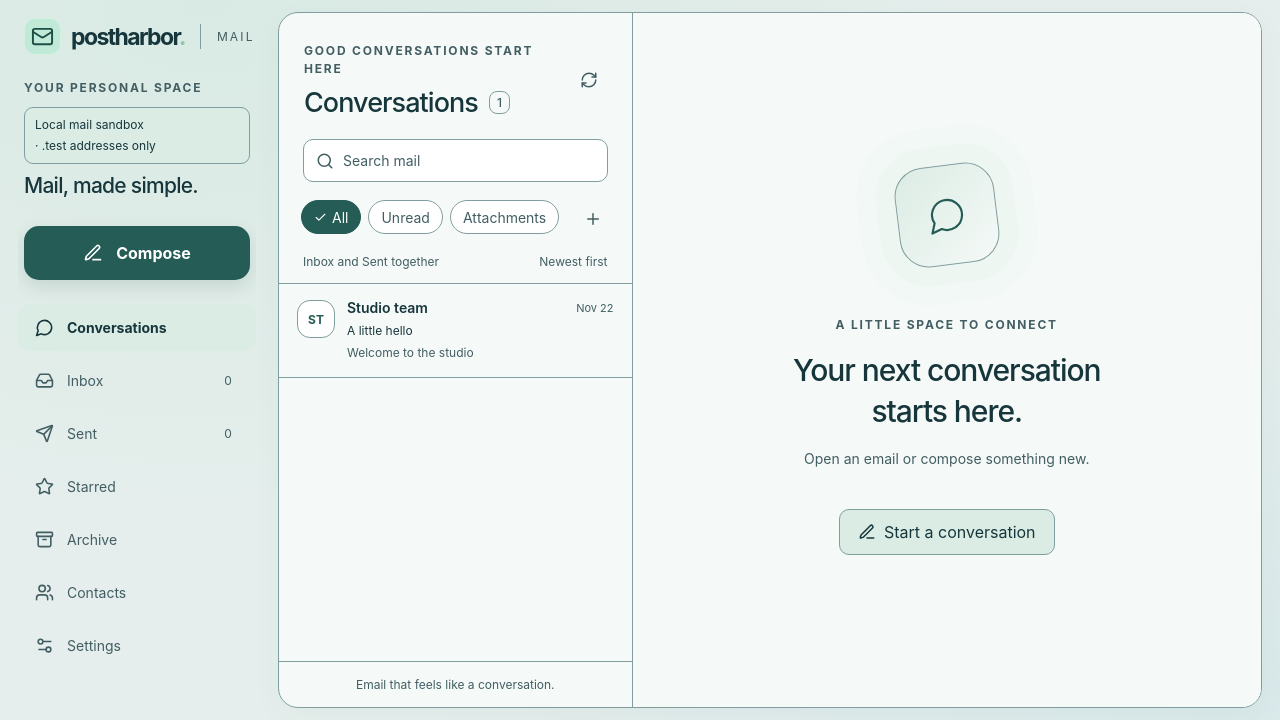
mailbox experience › preserves a failed reply, confirms draft dismissal, and sends the original reply reference
Click the button "ST Studio team Nov 22 A little hello Welcome to the studio" at (316, 319), box [279,284,632,378]
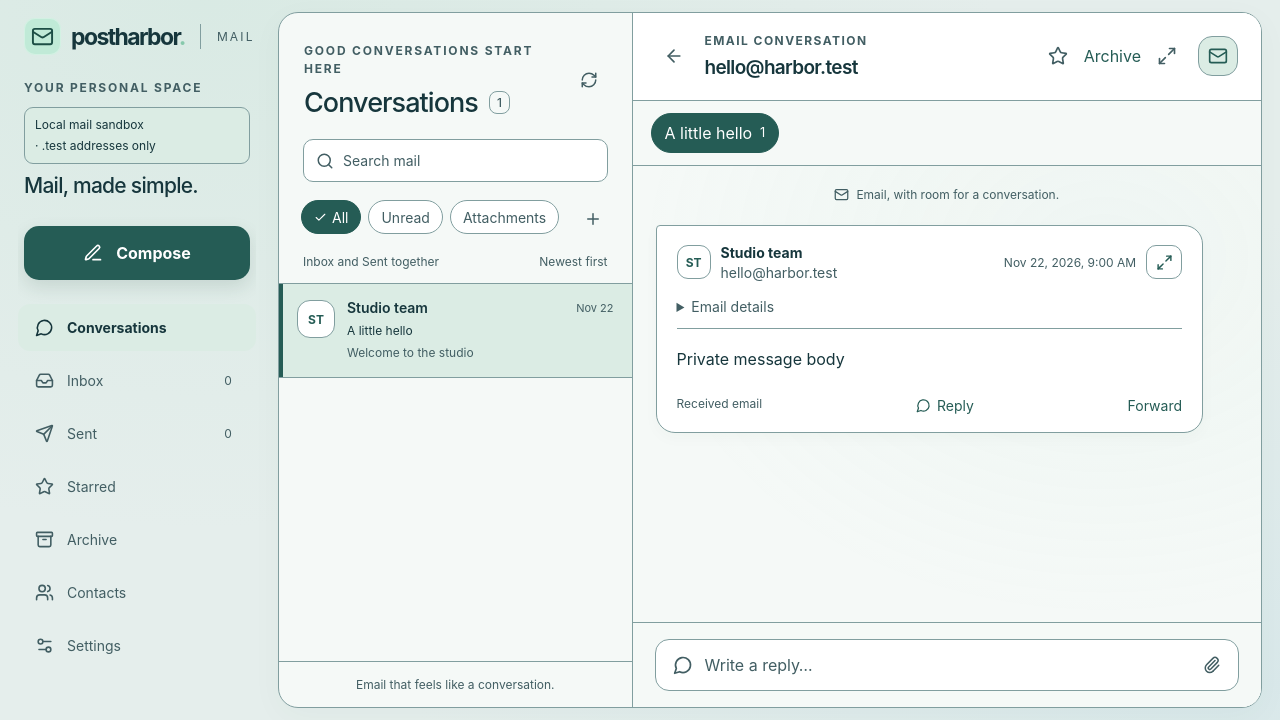
Click the button "Reply" at (941, 404), box [908,389,974,419]
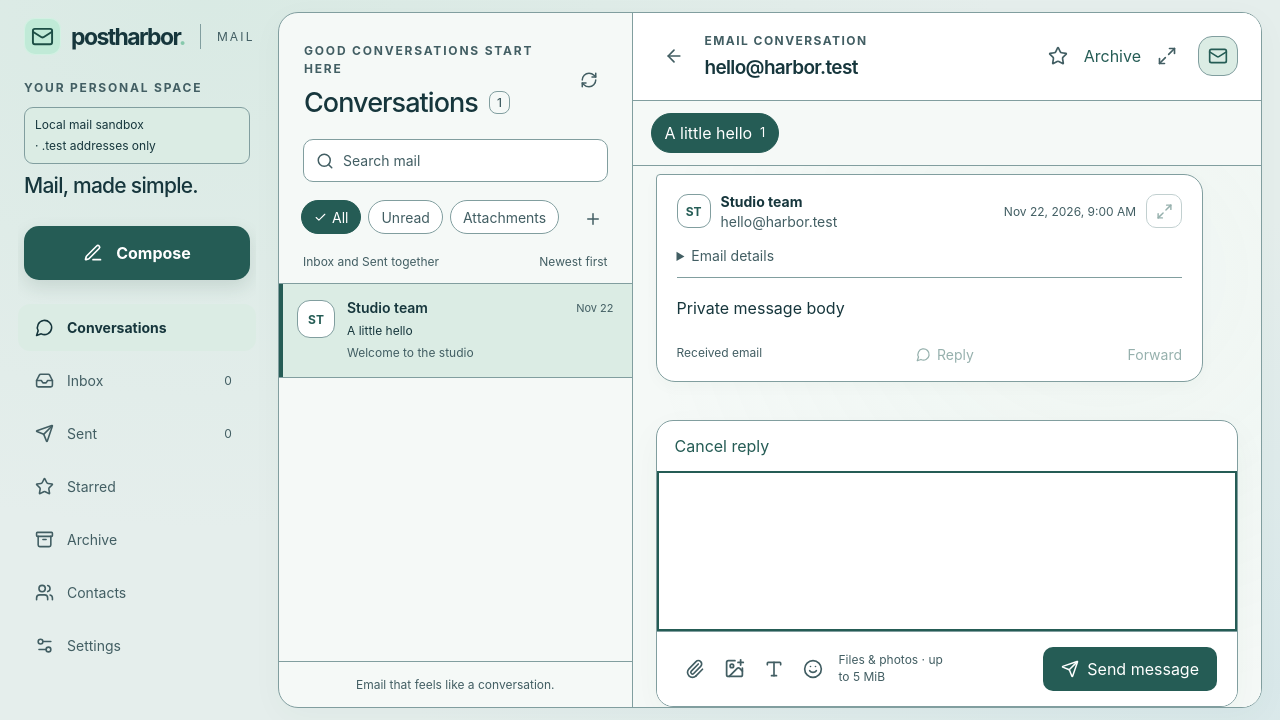
Clear the field named "Message" at (947, 551), box [656,471,1237,631]
Click the button "Cancel reply" at (722, 446), box [674,429,769,463]
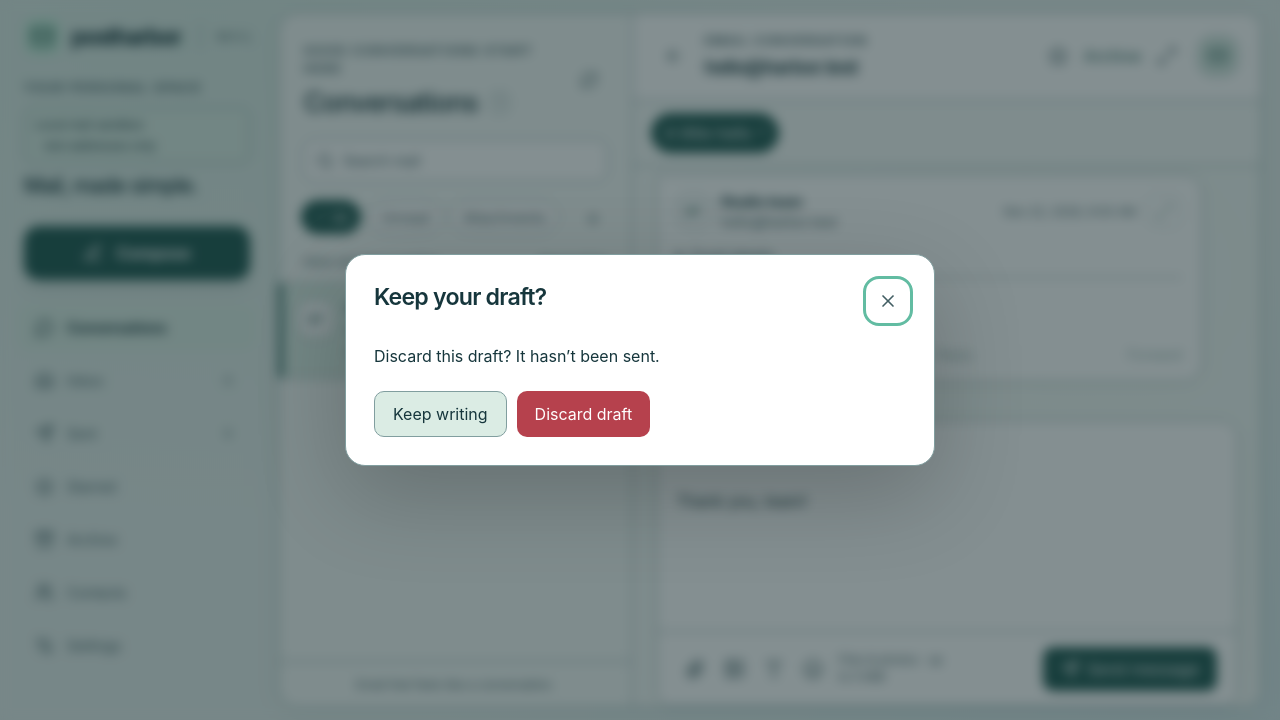
Result: the text "Discard this draft? It hasn’t been sent." is shown at [374,346,660,366]
Click the button "Keep writing" at (440, 414), box [374,391,507,437]
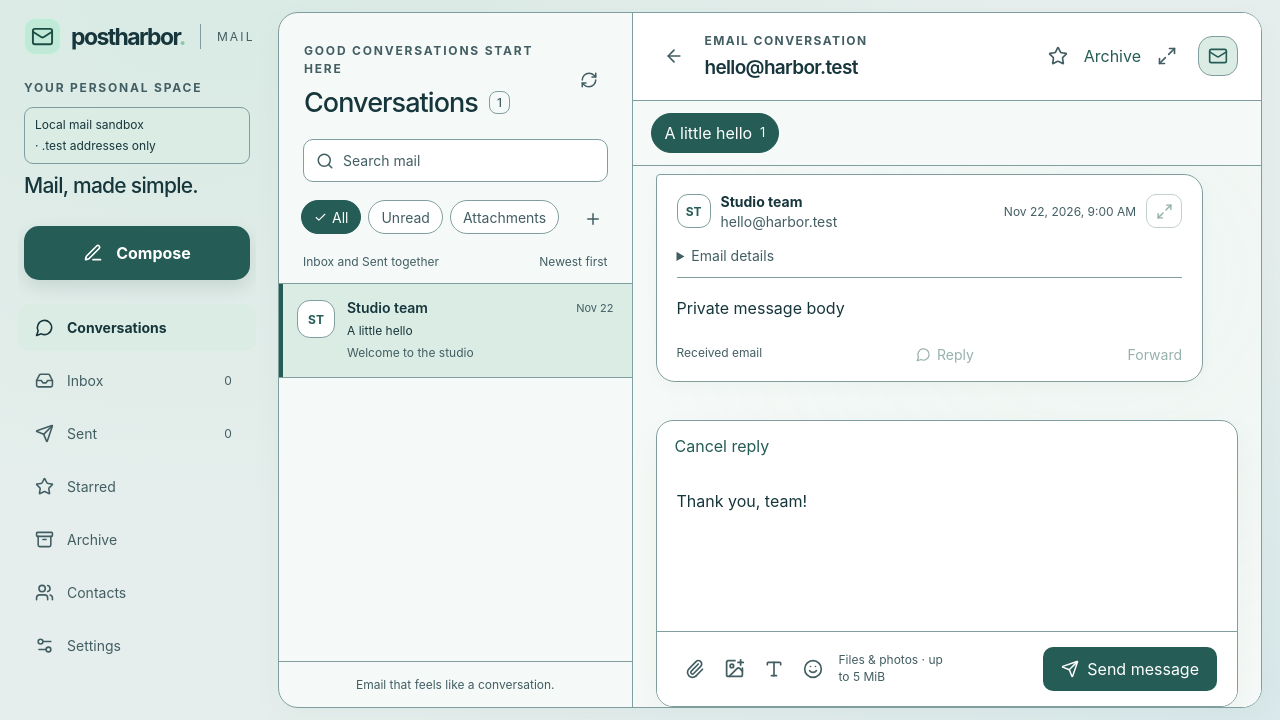
Click the button "Send message" at (1130, 669), box [1043,647,1217,691]
(page scrolled)
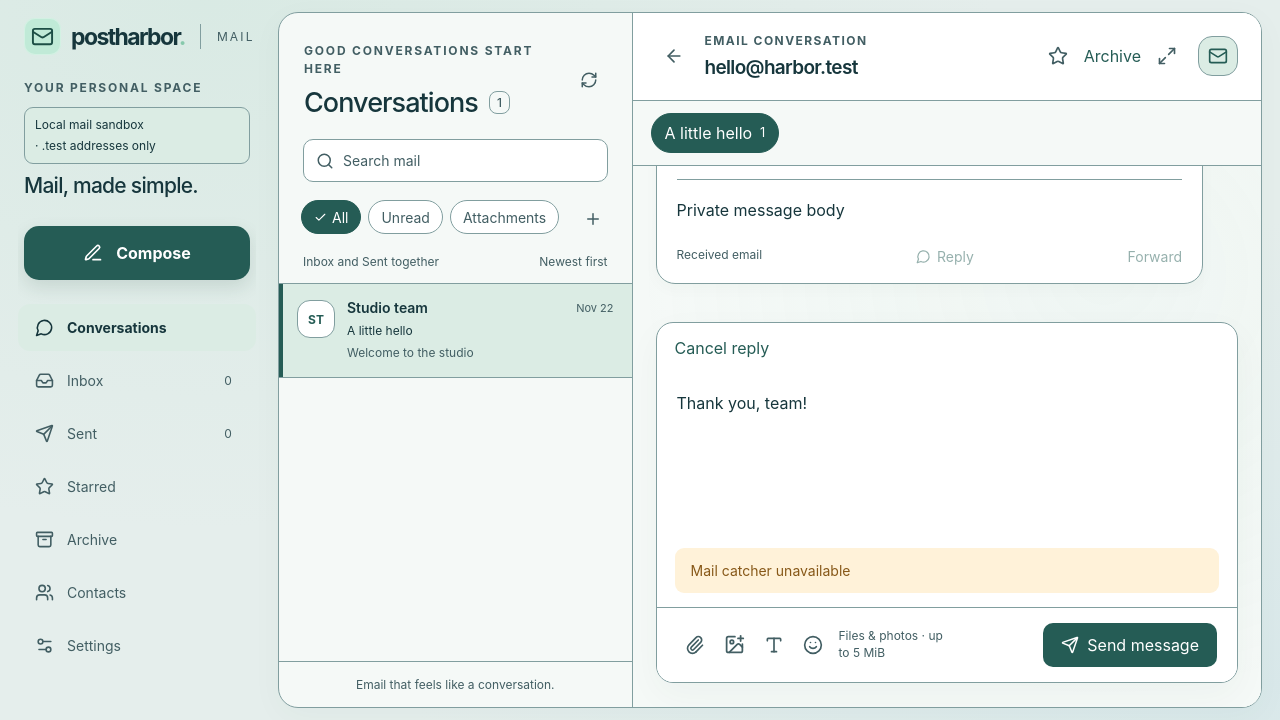
Result: the text "Mail catcher unavailable" is shown at [674,548,1219,593]
Click the button "Send message" at (1130, 645), box [1043,623,1217,667]
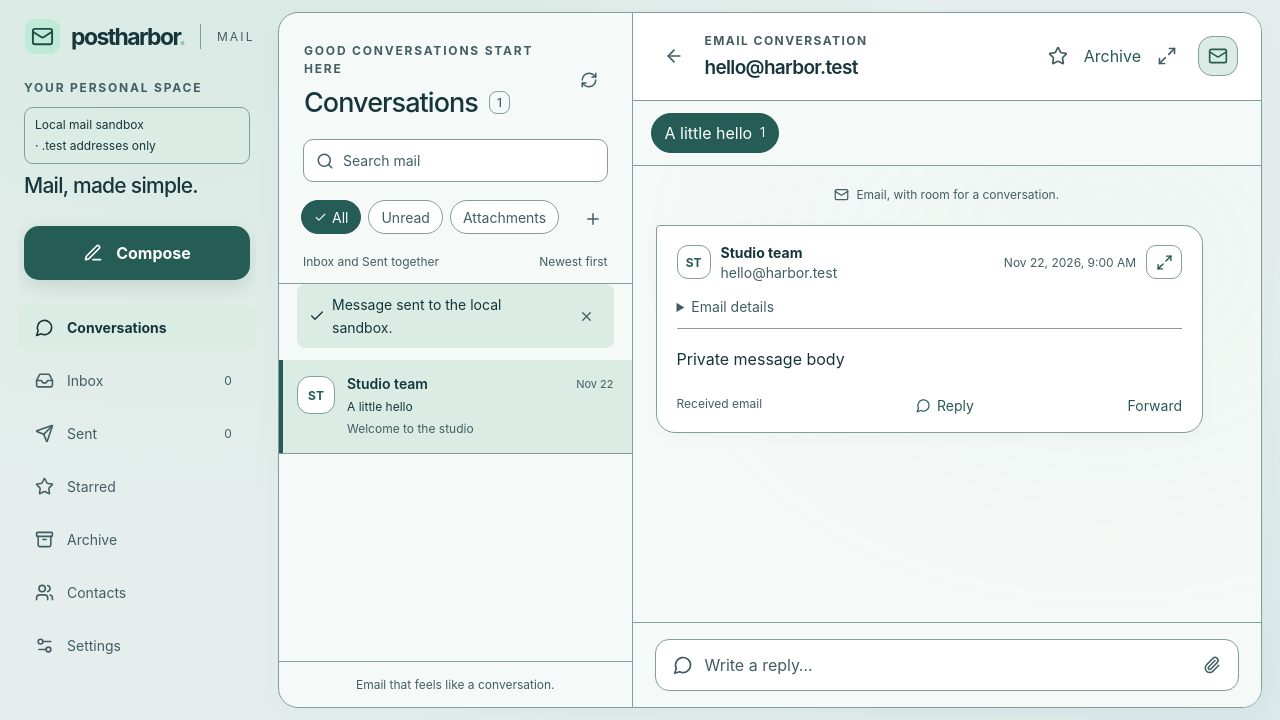
Result: the text "Message sent to the local sandbox." is shown at [297,284,614,348]
